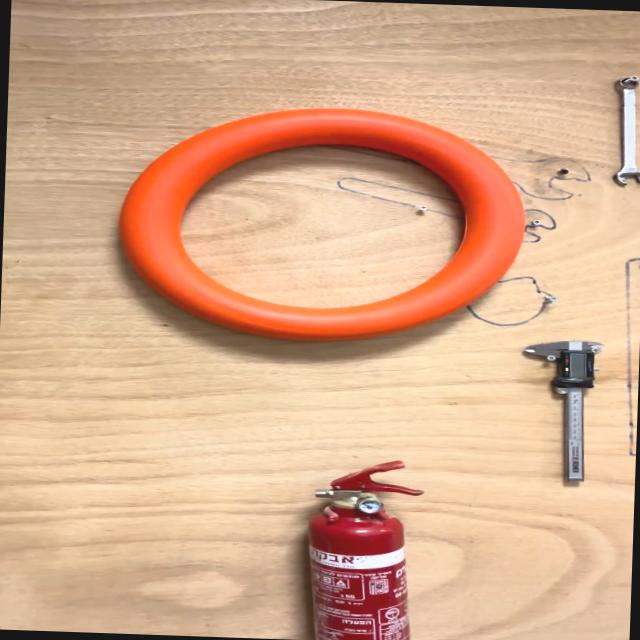note: (111, 98, 532, 351)
